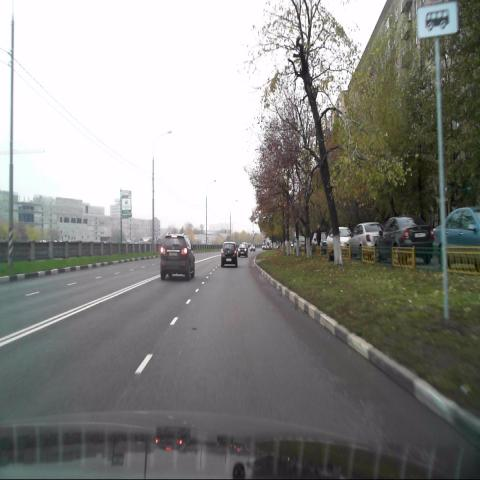8_4_4: (417, 6, 458, 38)
